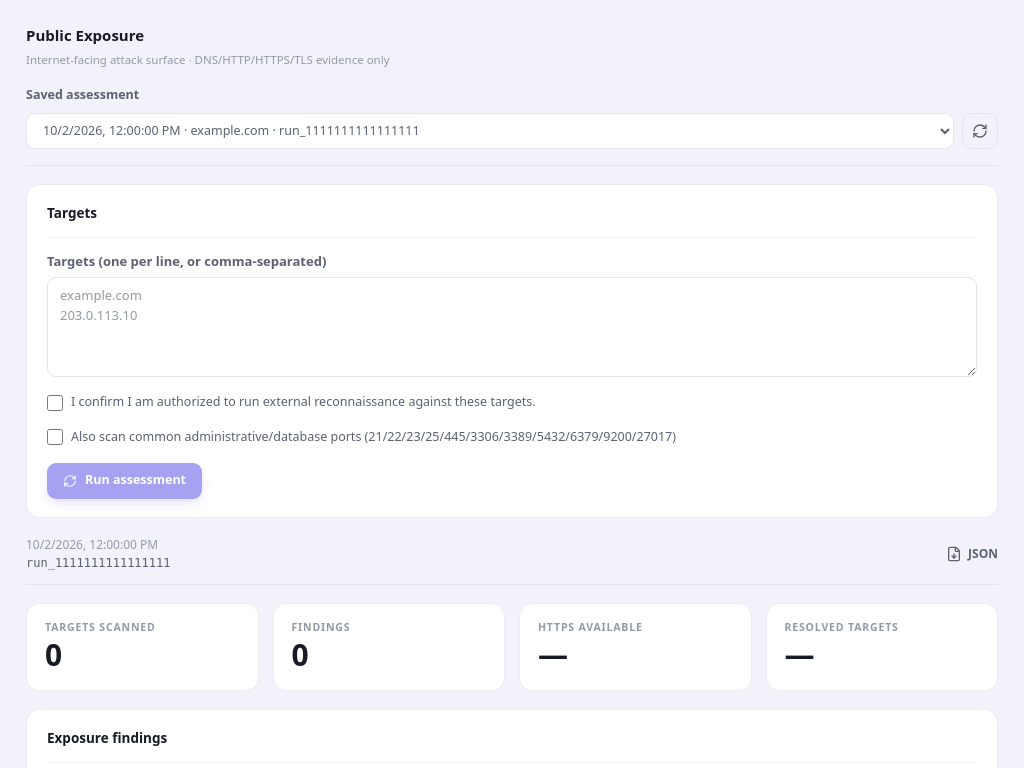
it: public exposure saved assessments › loads the latest then selects an older report with its exact export
The width and height of the screenshot is (1024, 768).
Step 1. Select "10/2/2026, 12:00:00 PM · example.com · run_2222222222222222" in the dropdown named "Public exposure assessment" → point(490, 130), box [26,112,954,148]
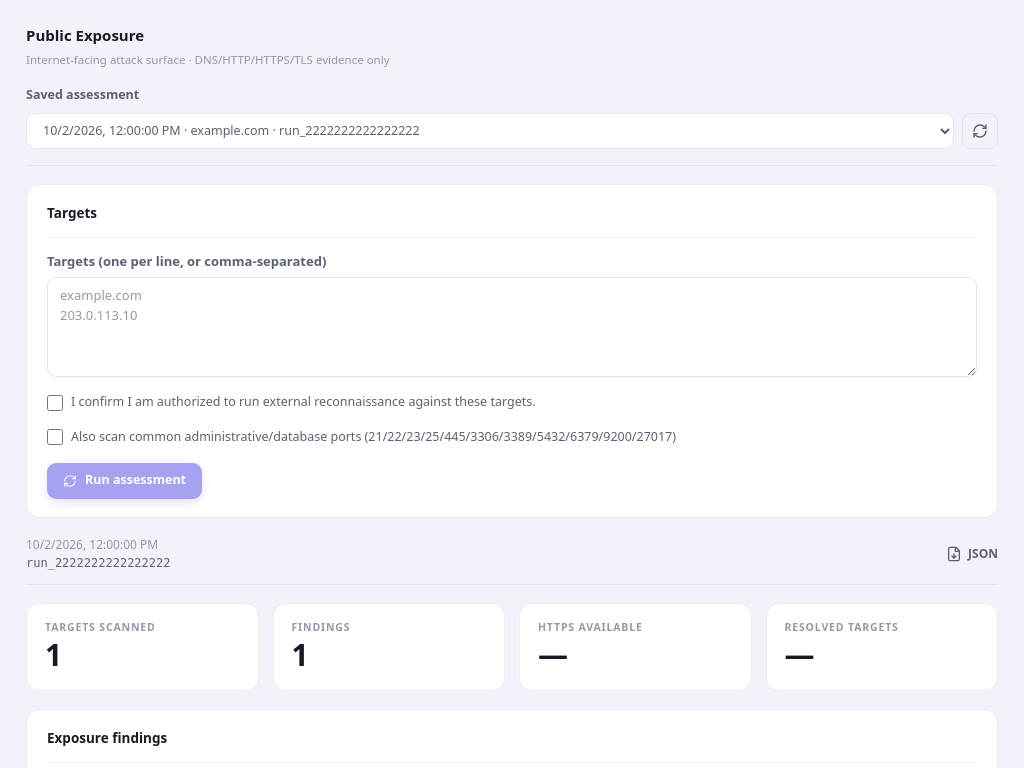
Expected: the text "run_2222222222222222" is shown, [26,554,170,572]
